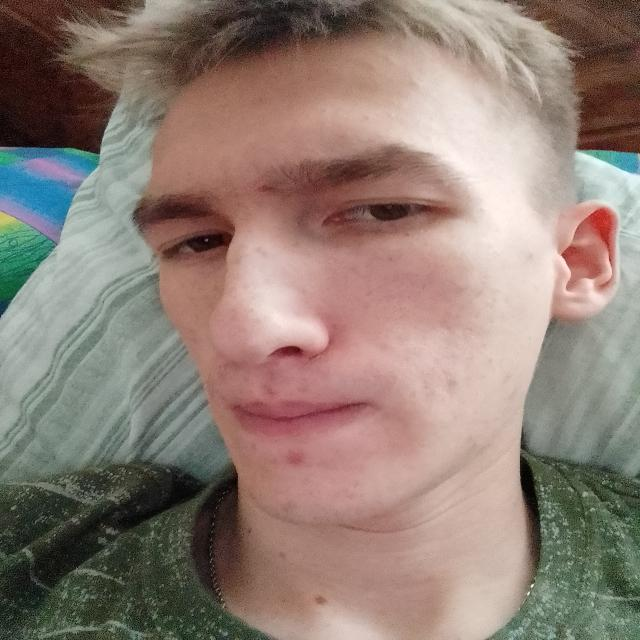Acne: (274, 444, 308, 468), (440, 371, 460, 396), (247, 182, 278, 196), (211, 362, 230, 382), (459, 434, 478, 453), (496, 368, 516, 386), (384, 52, 404, 68), (279, 499, 300, 514), (259, 382, 278, 398), (292, 378, 311, 392), (452, 279, 469, 293), (378, 338, 395, 352), (520, 248, 533, 266), (405, 79, 424, 91), (509, 384, 520, 403), (388, 110, 397, 121), (248, 441, 255, 452)
